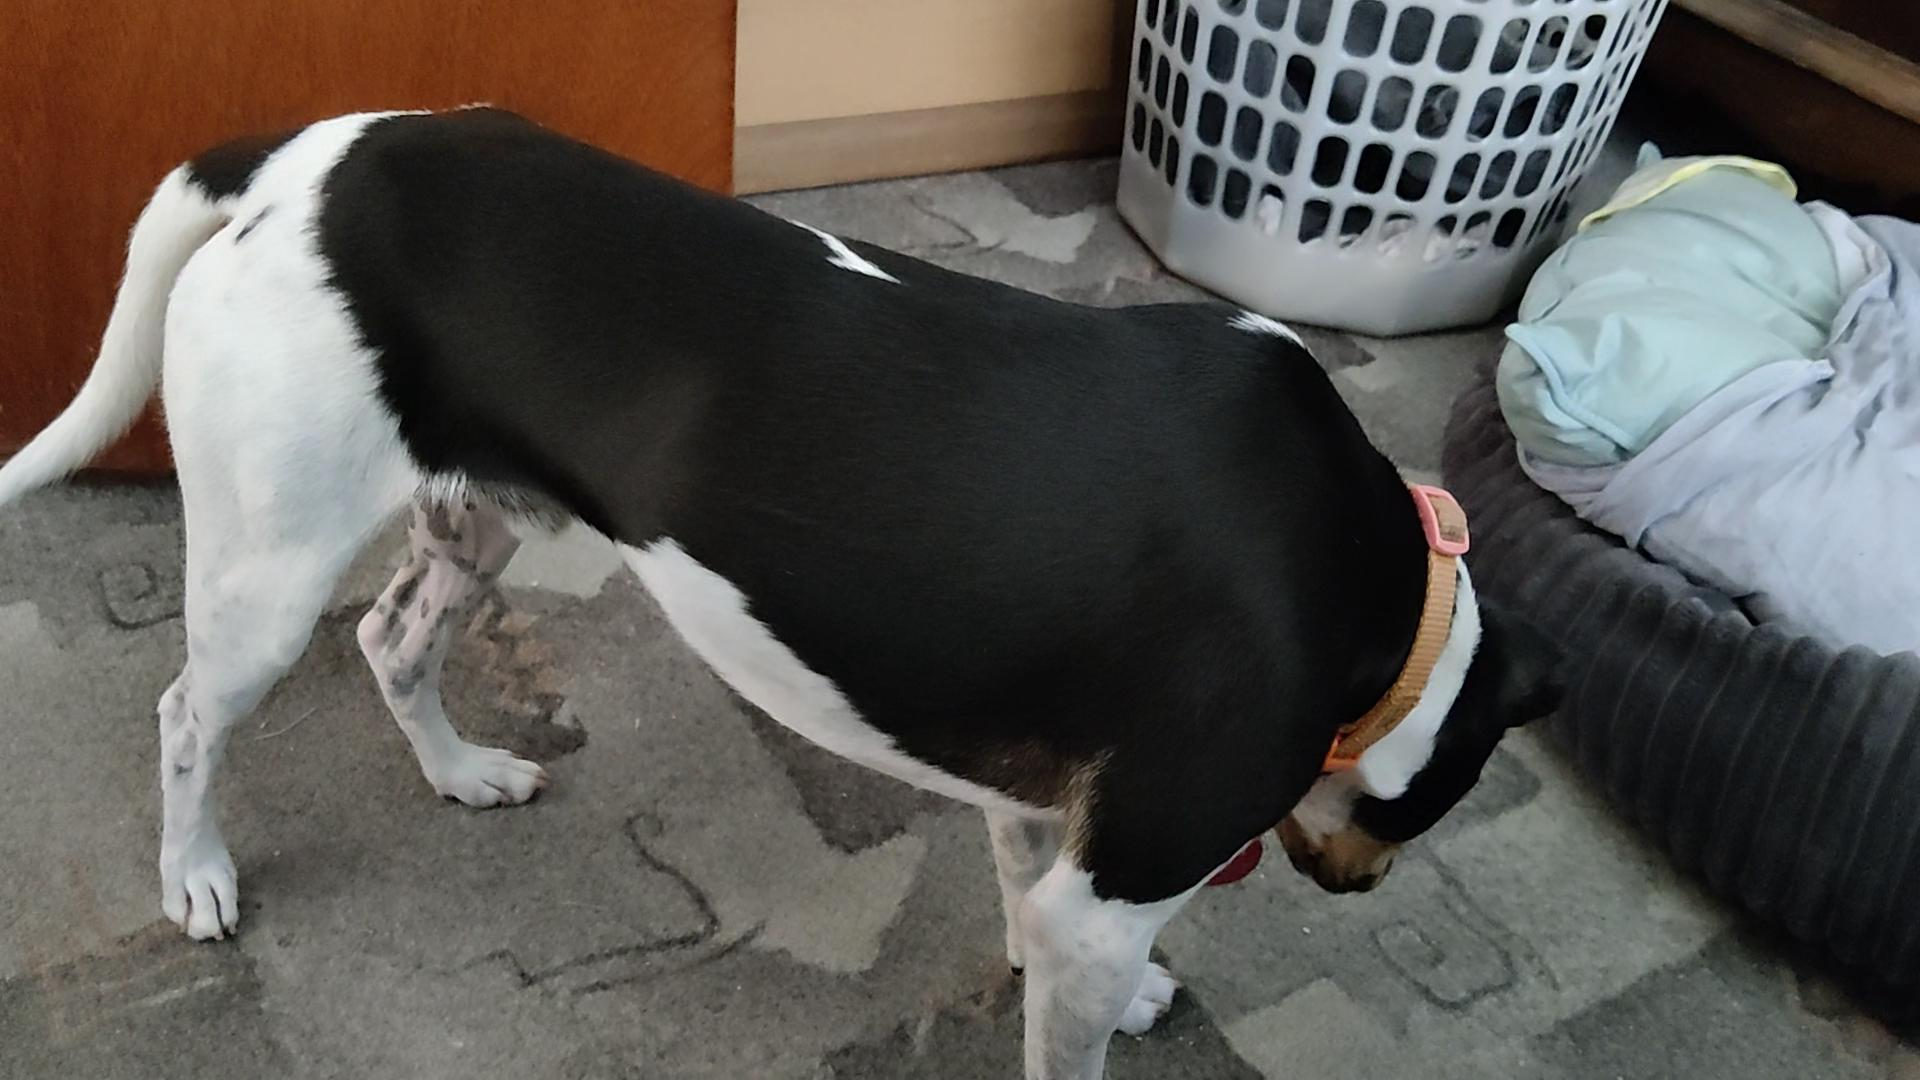Dog: (0, 95, 1582, 1079)
